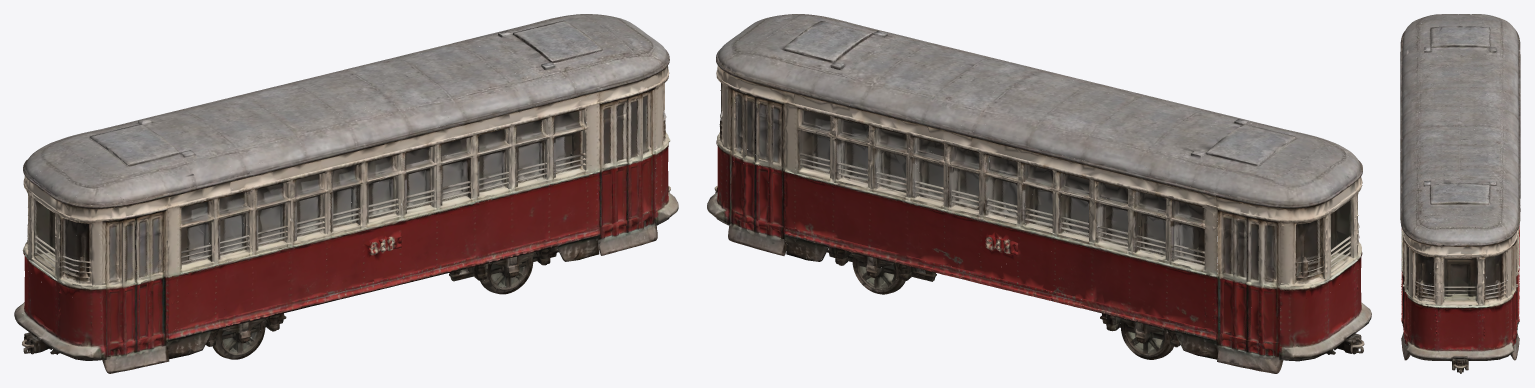
3 renders of one model, left to right at view 1: azimuth 30°, elevation 25°; view 2: azimuth 150°, elevation 25°; view 3: azimuth 270°, elevation 25°, orthographic. The views are drawn at different scales.
Parts seen in each view (by area): view 1: M_tirkama_AI_tripo; view 2: M_tirkama_AI_tripo; view 3: M_tirkama_AI_tripo.
Boxes of the visible parts, x1,y1,x2,y2 form: M_tirkama_AI_tripo: (14,14,678,373); M_tirkama_AI_tripo: (707,14,1371,373); M_tirkama_AI_tripo: (1400,14,1520,373).
Size of the model in its own units: 10.3 by 3.3 by 2.18.
1 material, 1 textured.
